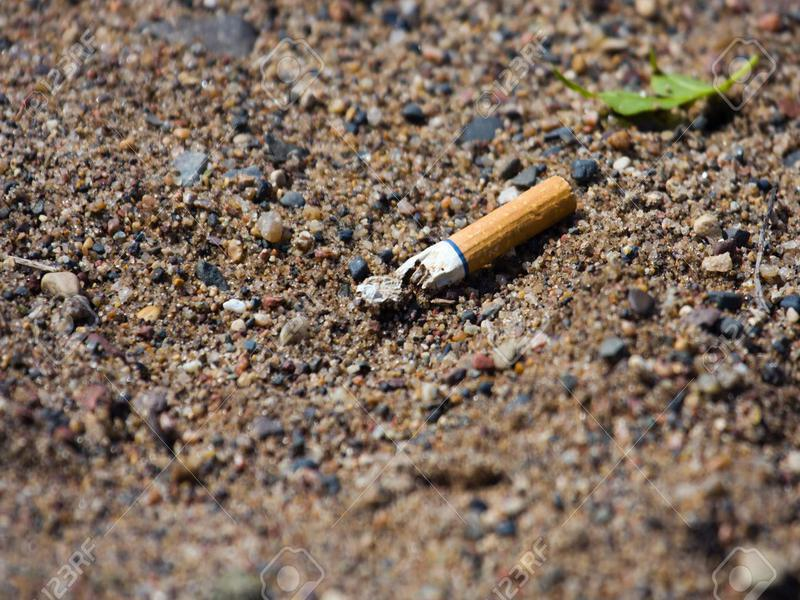burned_cigarette: (388, 173, 585, 296)
leaf: (548, 39, 762, 131)
